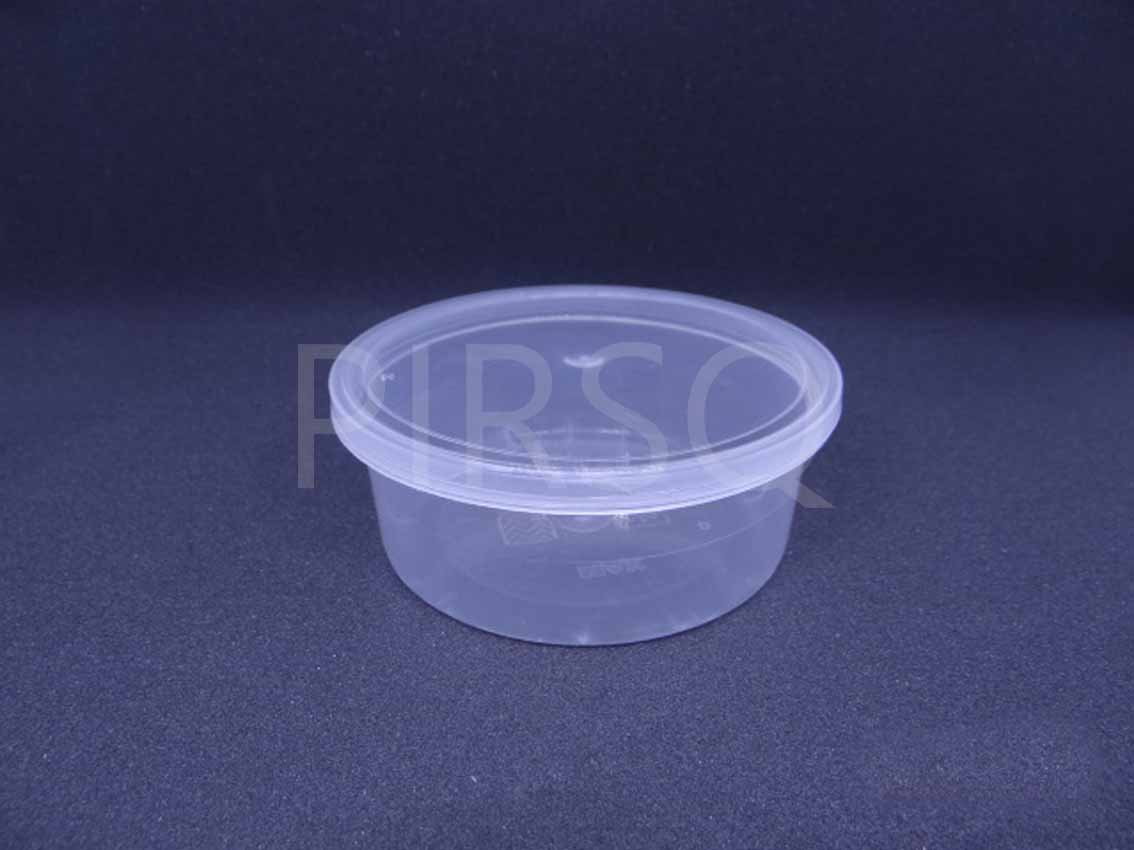PlasticBox: (319, 278, 848, 656)
